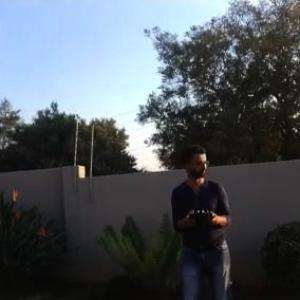follow: (164, 133, 236, 299)
